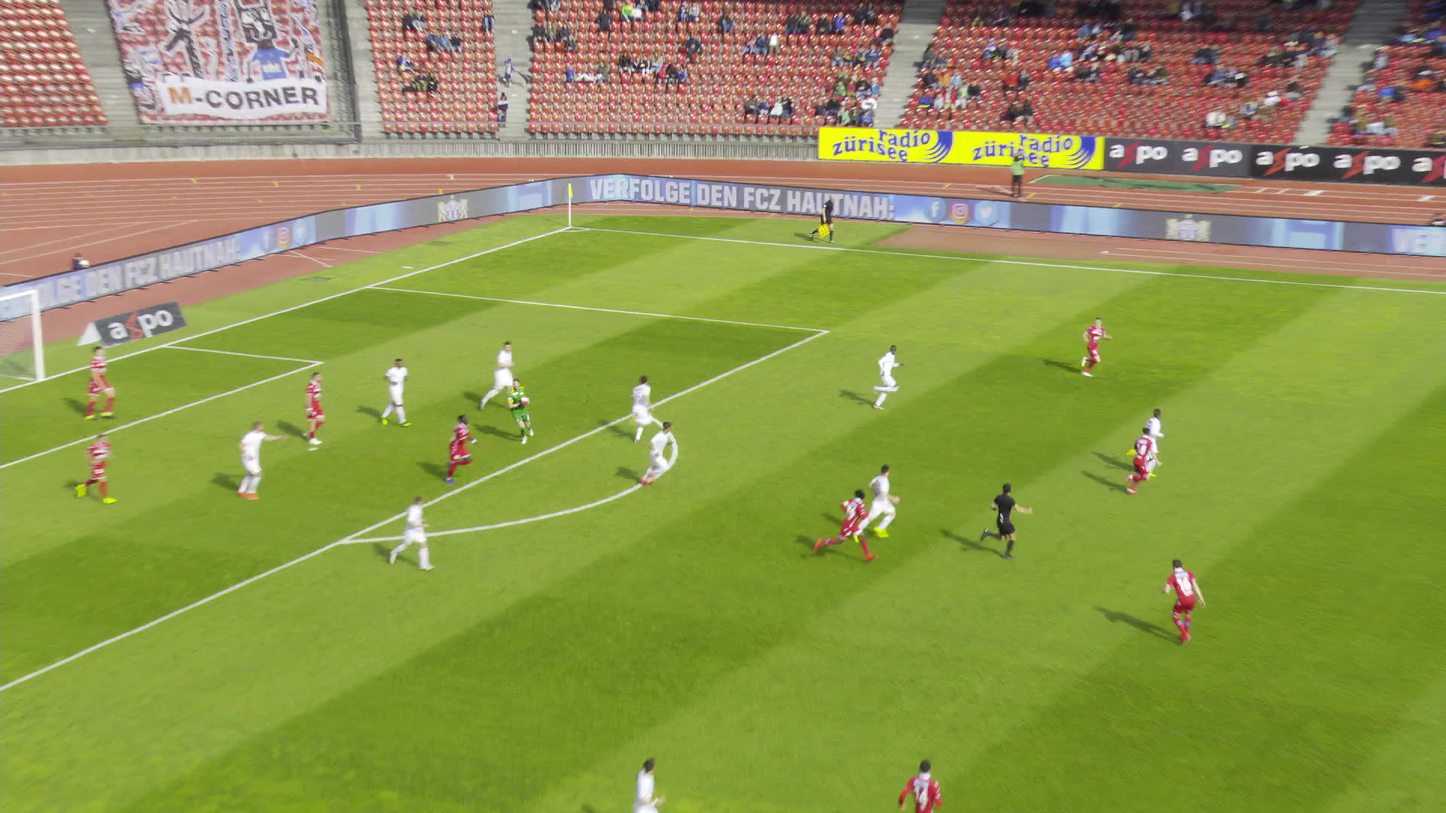ball: (519, 396, 528, 406)
player: (813, 489, 876, 562), (236, 420, 289, 500), (1161, 557, 1204, 644), (390, 496, 435, 571), (857, 464, 899, 537), (60, 431, 99, 507), (1127, 408, 1169, 477), (1120, 425, 1159, 495), (898, 757, 943, 812), (627, 755, 667, 812), (445, 414, 477, 485), (480, 342, 514, 408), (84, 346, 114, 420), (640, 422, 673, 486), (296, 373, 324, 446), (380, 358, 410, 426), (874, 345, 905, 410), (1080, 315, 1111, 376), (508, 378, 533, 444), (632, 376, 651, 444)
referee: (979, 483, 1033, 559), (809, 196, 834, 242)
